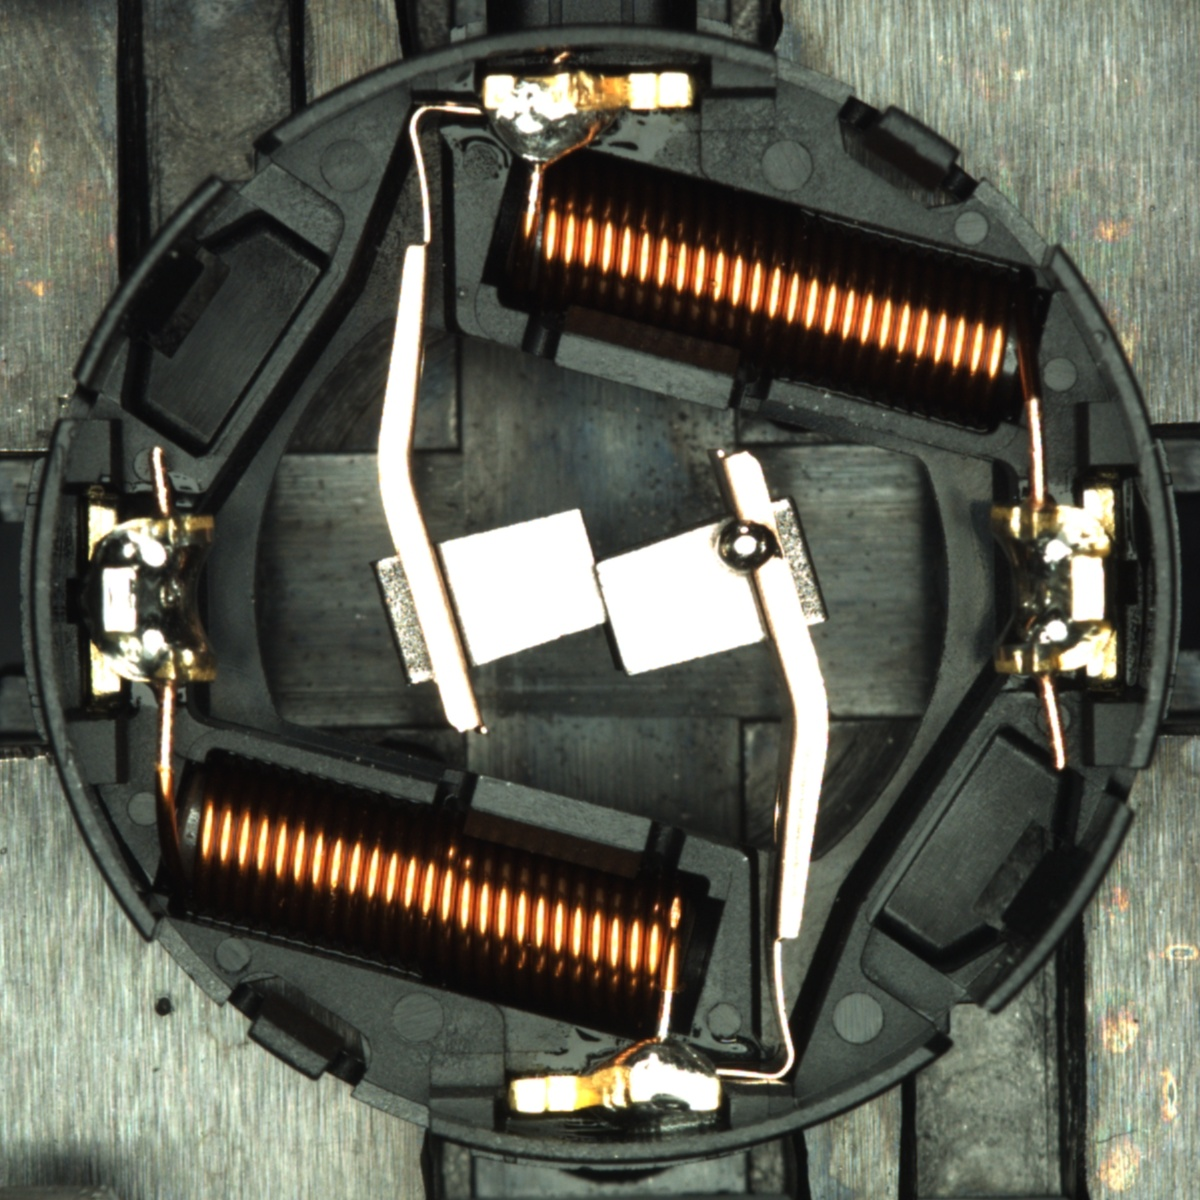1: (258, 55, 487, 279), (716, 953, 945, 1177)
2: (716, 55, 945, 279), (258, 953, 487, 1177)
3: (29, 279, 258, 503), (945, 729, 1175, 953)
4: (258, 279, 487, 503), (716, 729, 945, 953)
5: (487, 167, 716, 391), (487, 841, 716, 1065)
6: (716, 279, 945, 503), (258, 729, 487, 953)
7: (945, 279, 1175, 503), (29, 729, 258, 953)
chau_dien: (81, 497, 222, 699), (981, 488, 1123, 685)
hat_chi: (718, 520, 784, 573)
tay_choi: (481, 70, 698, 171), (509, 1027, 722, 1120)
thanh_de: (956, 786, 1142, 1031), (62, 166, 244, 403)
